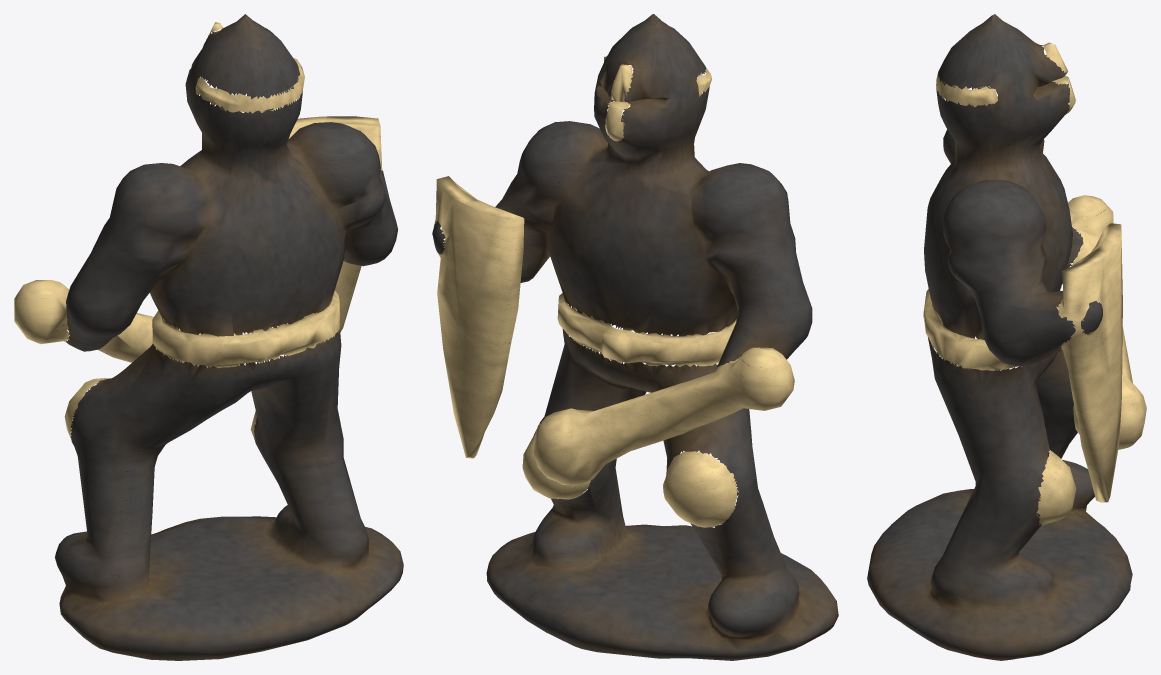
The model's file is pawn-black.glb.
The picture shows the model from 3 angles, left to right: view 1: azimuth 30°, elevation 25°; view 2: azimuth 150°, elevation 25°; view 3: azimuth 270°, elevation 25°; orthographic projection.
Visible parts, largest first — view 1: Argent Reliquary – Black Pawn; view 2: Argent Reliquary – Black Pawn; view 3: Argent Reliquary – Black Pawn.
Boxes of the visible parts, left/top/right/bottom form: Argent Reliquary – Black Pawn: left=14, top=14, right=403, bottom=660; Argent Reliquary – Black Pawn: left=432, top=14, right=838, bottom=660; Argent Reliquary – Black Pawn: left=867, top=14, right=1146, bottom=660.
Size of the model in its own units: 0.608 by 0.96 by 0.4159.
2 materials, 2 textured.
